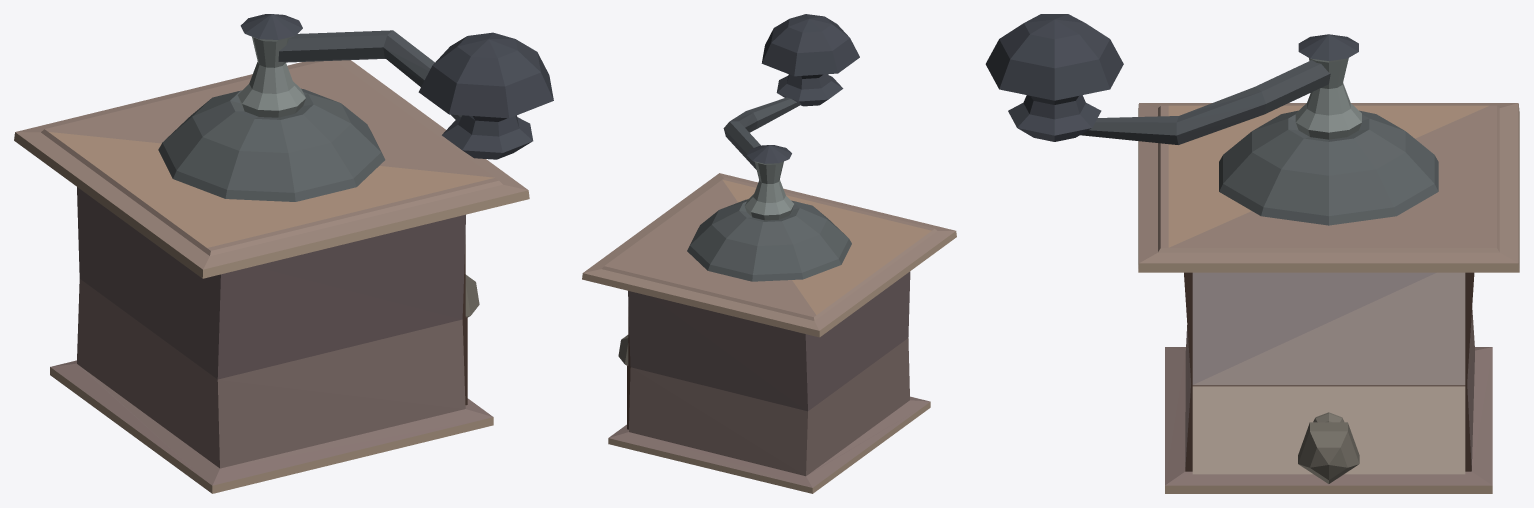
File: coffee_maker.fbx
3 views of the same model, side by side, from view 1: azimuth 30°, elevation 25°; view 2: azimuth 150°, elevation 25°; view 3: azimuth 270°, elevation 25° (orthographic). The views are drawn at different scales.
Parts seen in each view (by area): view 1: coffee_maker; view 2: coffee_maker; view 3: coffee_maker.
Part boxes in pixels (box(x1,y1,x2,y2)): coffee_maker: box(14, 14, 553, 493); coffee_maker: box(582, 14, 956, 493); coffee_maker: box(985, 14, 1519, 493).
Bounding box in the file's own units: 30.83 × 35.33 × 38.42.
